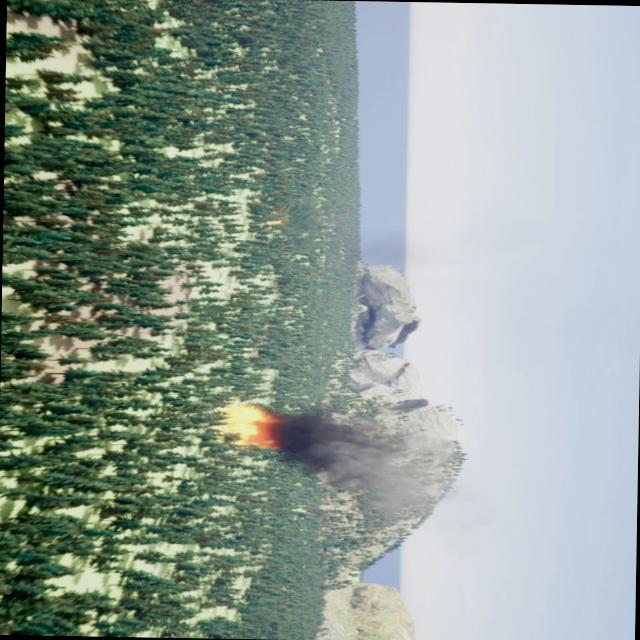fire: (218, 402, 278, 451), (264, 207, 286, 225)
smoke: (286, 406, 504, 534)
